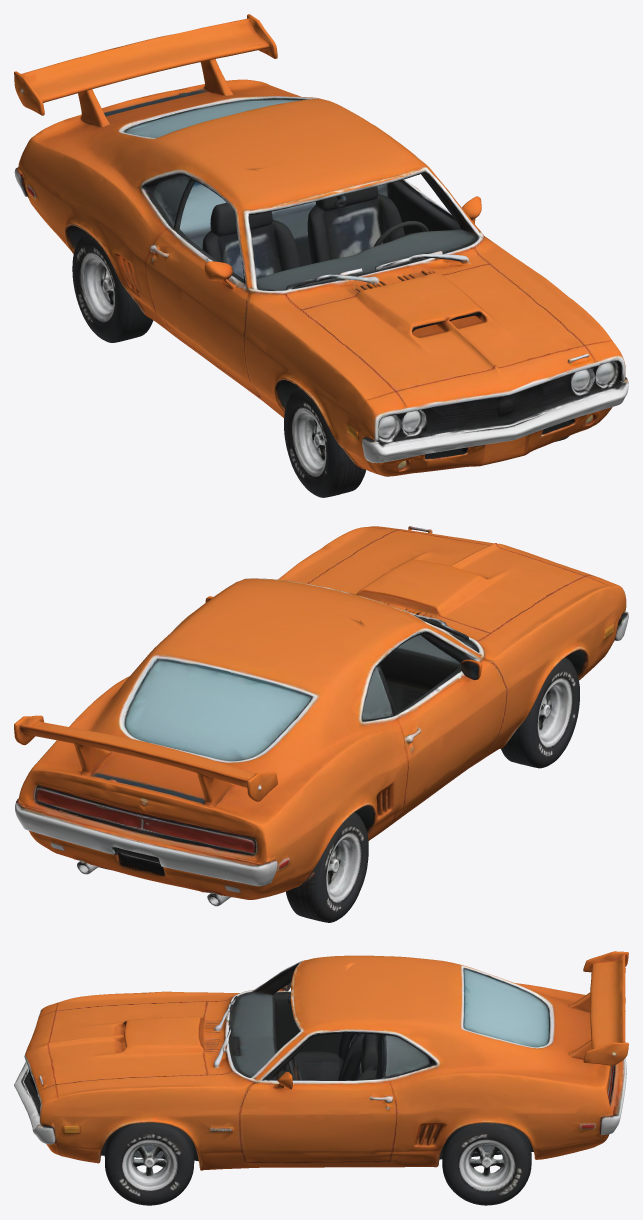
File: 071_muscle_orange_70s.glb
3 views of the same model, one above another, from view 1: azimuth 30°, elevation 25°; view 2: azimuth 150°, elevation 25°; view 3: azimuth 270°, elevation 25° (orthographic). The views are drawn at different scales.
Parts seen in each view (by area): view 1: geometry_0; view 2: geometry_0; view 3: geometry_0.
Part boxes in pixels (x1,y1,x2,y2): geometry_0: (14, 14, 628, 497); geometry_0: (14, 526, 628, 922); geometry_0: (14, 951, 628, 1205).
Size of the model in its own units: 2.15 by 1.63 by 5.2.
Materials: 1 (1 with a texture image).
